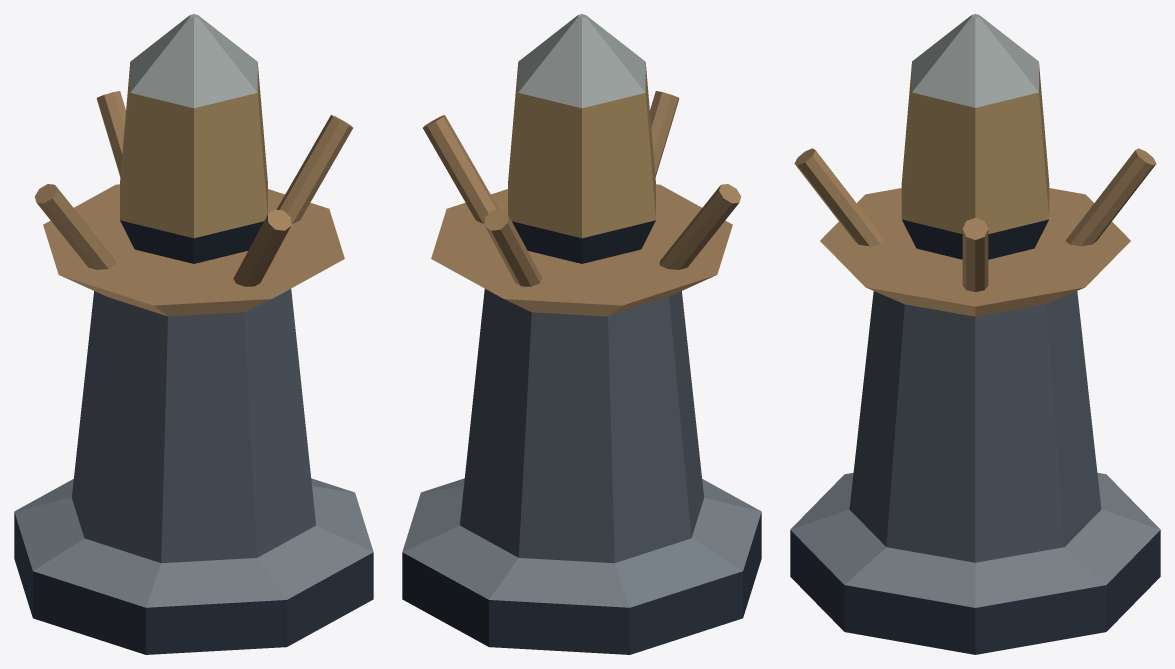
The model's file is beacon-active.glb.
3 views of the same model, side by side, from view 1: azimuth 30°, elevation 25°; view 2: azimuth 150°, elevation 25°; view 3: azimuth 270°, elevation 25° (orthographic).
Parts seen in each view (by area): view 1: beacon-active__body; view 2: beacon-active__body; view 3: beacon-active__body.
Boxes of the visible parts, box(x1,y1,x2,y2) form: beacon-active__body: box(14, 14, 373, 654); beacon-active__body: box(402, 14, 761, 654); beacon-active__body: box(790, 14, 1160, 654).
Size of the model in its own units: 1 by 1.67 by 1.
